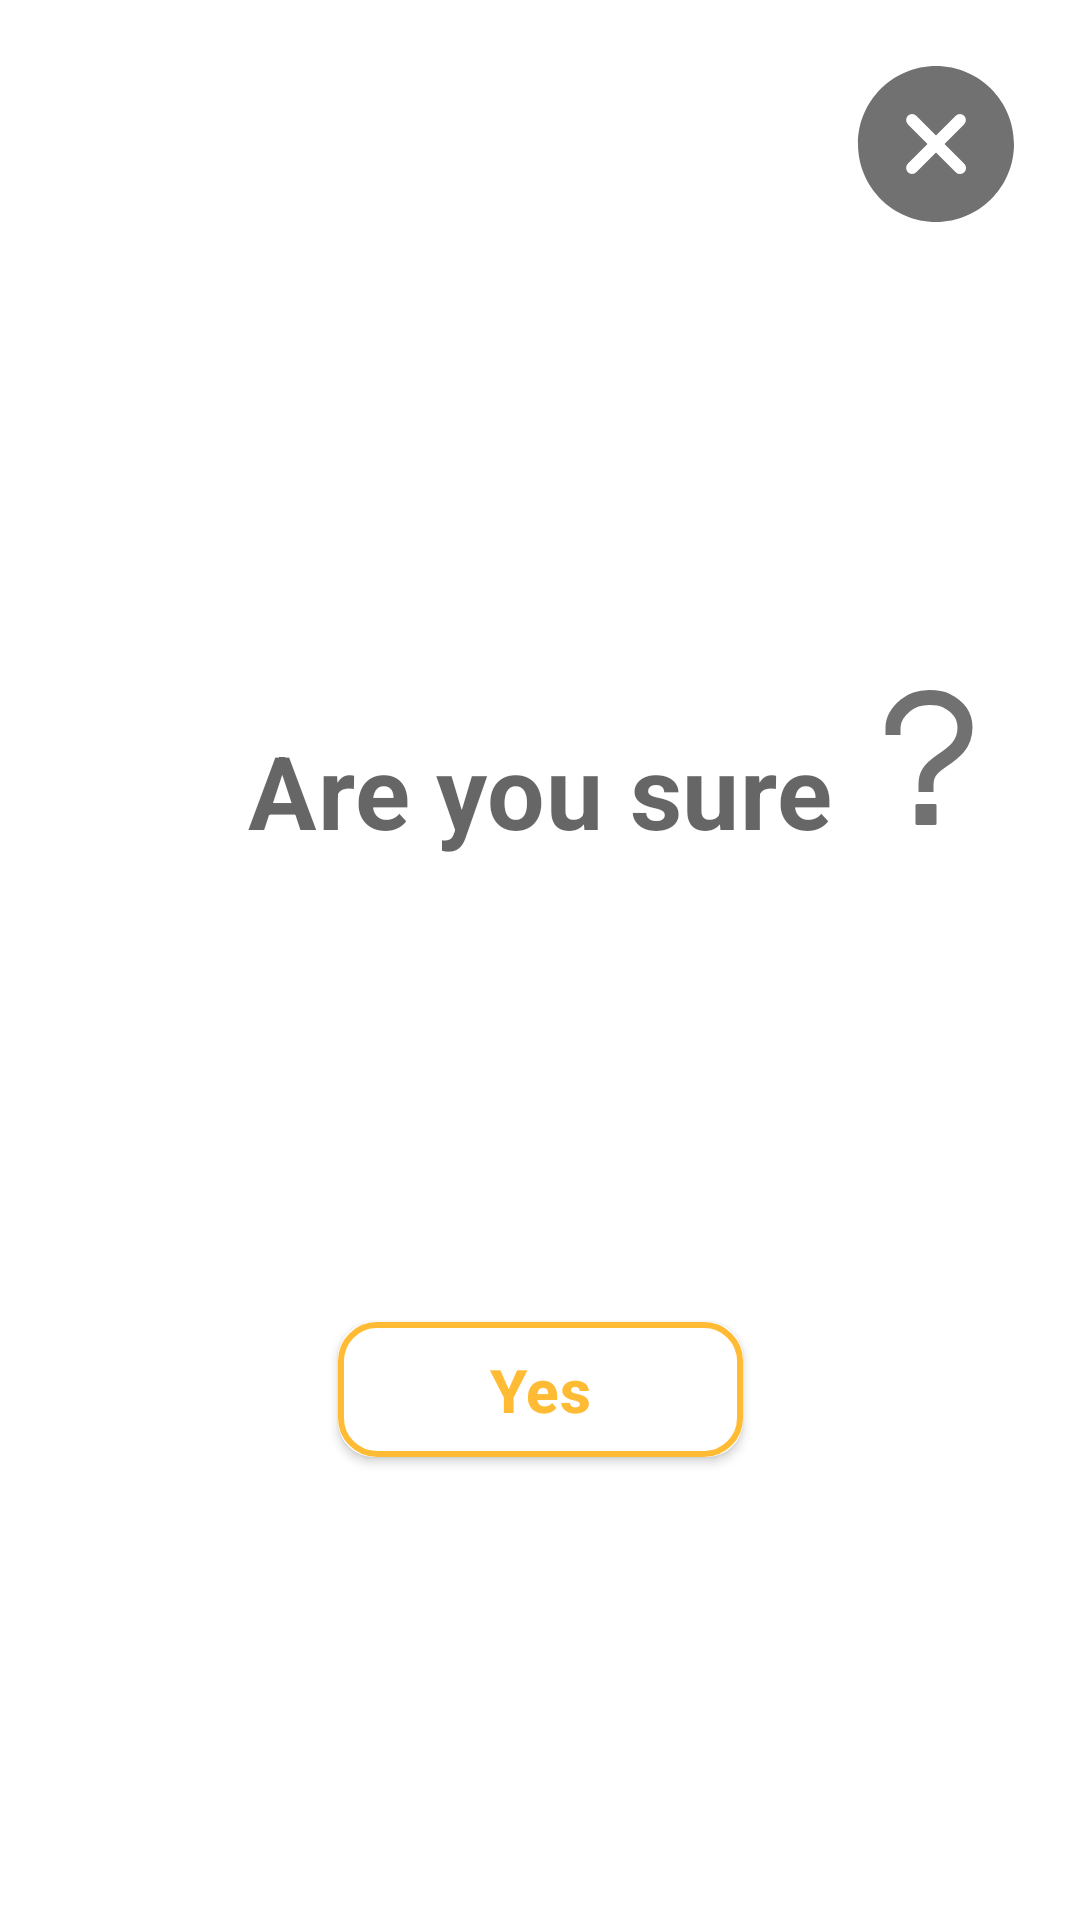

Screen size 1080px x 1920px. Icon name, then its box in pixels as (x1, y1, x2, y2):
close circle: (858, 66, 1014, 222)
help sharp: (885, 690, 973, 825)
